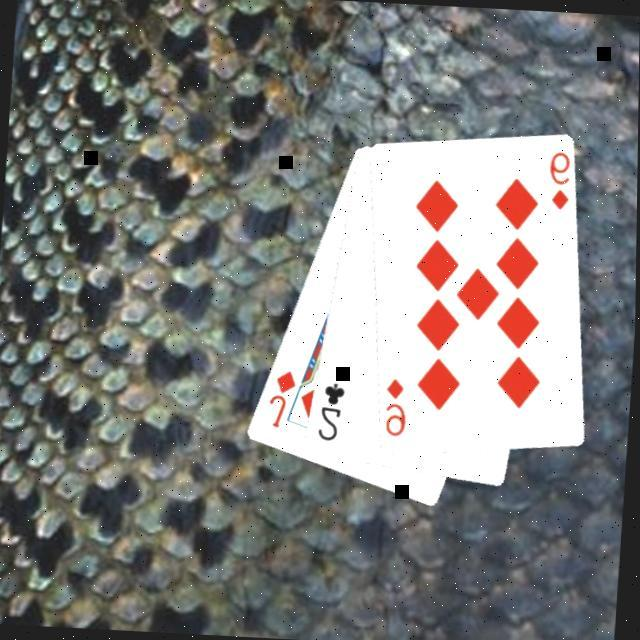2C: (313, 379, 347, 444)
9D: (379, 375, 411, 440), (542, 148, 573, 213)
JD: (263, 365, 299, 431)
